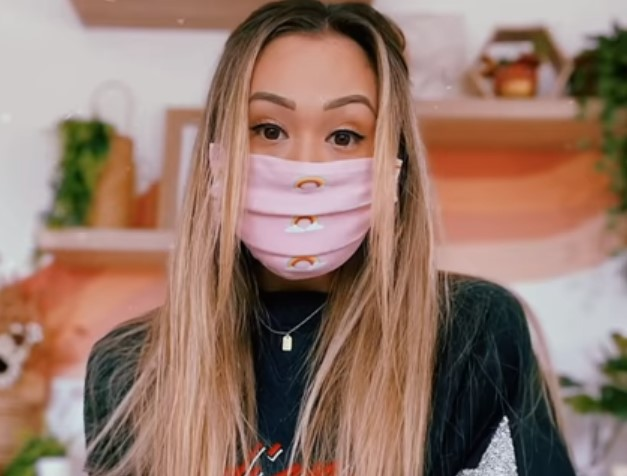face_with_mask: (205, 11, 412, 294)
